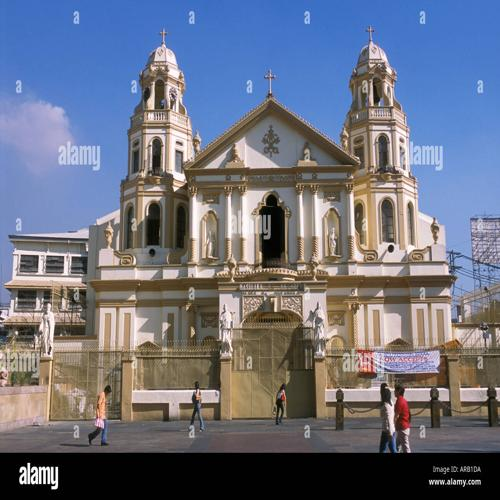Quiapo Church: (80, 13, 453, 424)
